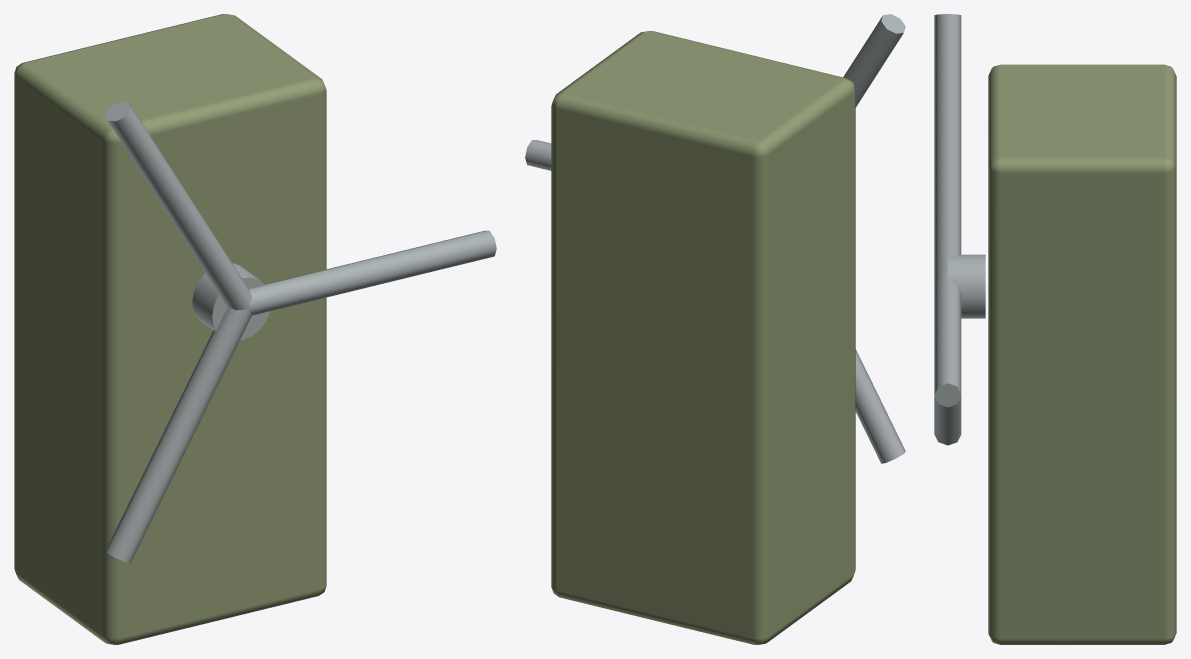
Rendered from extraction-routes-and-objectives-checkpoint-turnstile-40ae7757__22173.glb.
3 views of the same model, side by side, from view 1: azimuth 30°, elevation 25°; view 2: azimuth 150°, elevation 25°; view 3: azimuth 270°, elevation 25° (orthographic). The views are drawn at different scales.
Parts seen in each view (by area): view 1: checkpoint-turnstile; view 2: checkpoint-turnstile; view 3: checkpoint-turnstile.
Part boxes in pixels (x1=…): checkpoint-turnstile: x1=14, y1=14, x2=496, y2=644; checkpoint-turnstile: x1=525, y1=14, x2=905, y2=644; checkpoint-turnstile: x1=934, y1=14, x2=1176, y2=644.
Bounding box in the file's own units: 0.7717 × 1.09 × 0.45.
